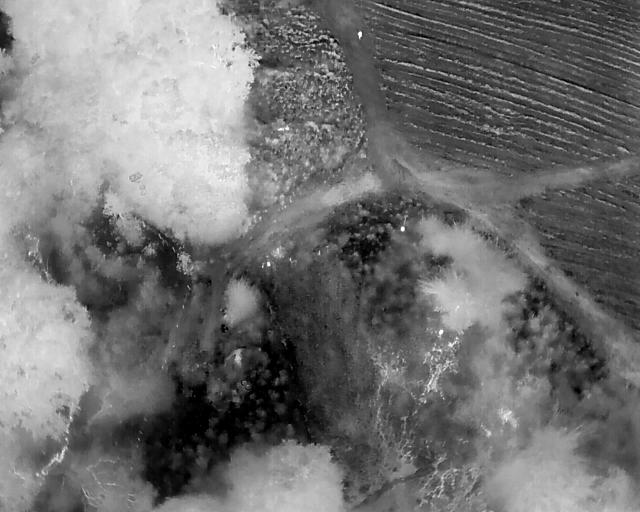person: (358, 30, 362, 39)
